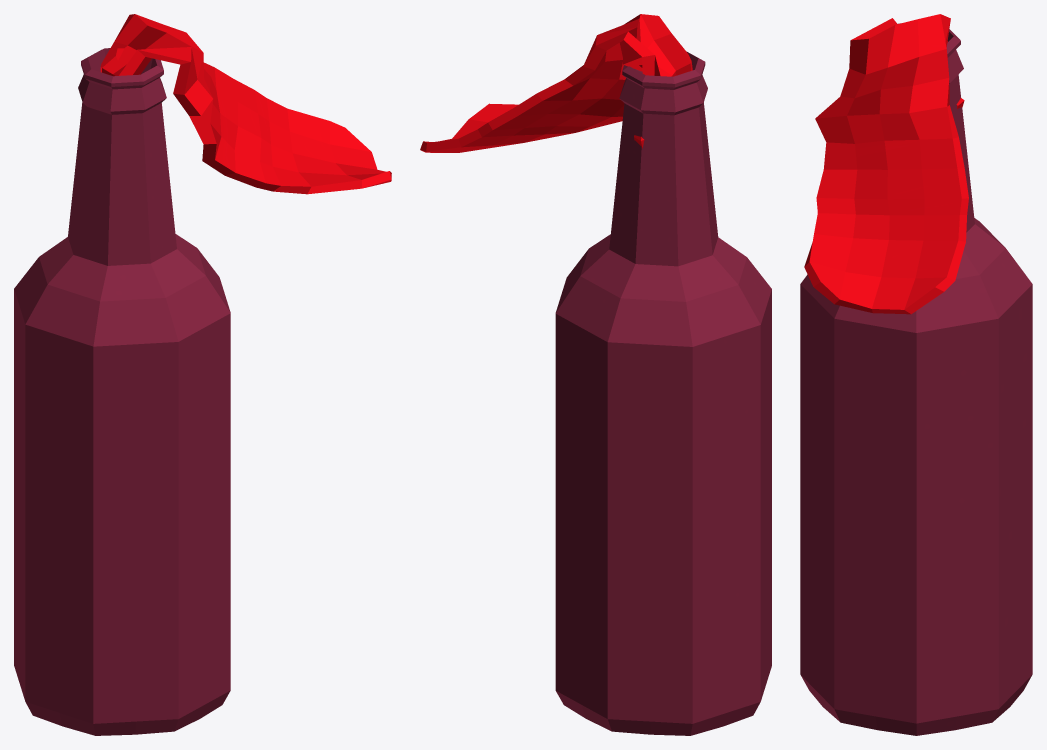
The model's file is Molotov.fbx.
3 views of the same model, side by side, from view 1: azimuth 30°, elevation 25°; view 2: azimuth 150°, elevation 25°; view 3: azimuth 270°, elevation 25° (orthographic). The views are drawn at different scales.
Parts seen in each view (by area): view 1: Bottle.001; view 2: Bottle.001; view 3: Bottle.001.
Boxes of the visible parts, <box> form: Bottle.001: <box>14,14,391,735</box>; Bottle.001: <box>420,14,771,735</box>; Bottle.001: <box>800,14,1032,735</box>.
Bounding box in the file's own units: 103 × 191 × 58.51.
